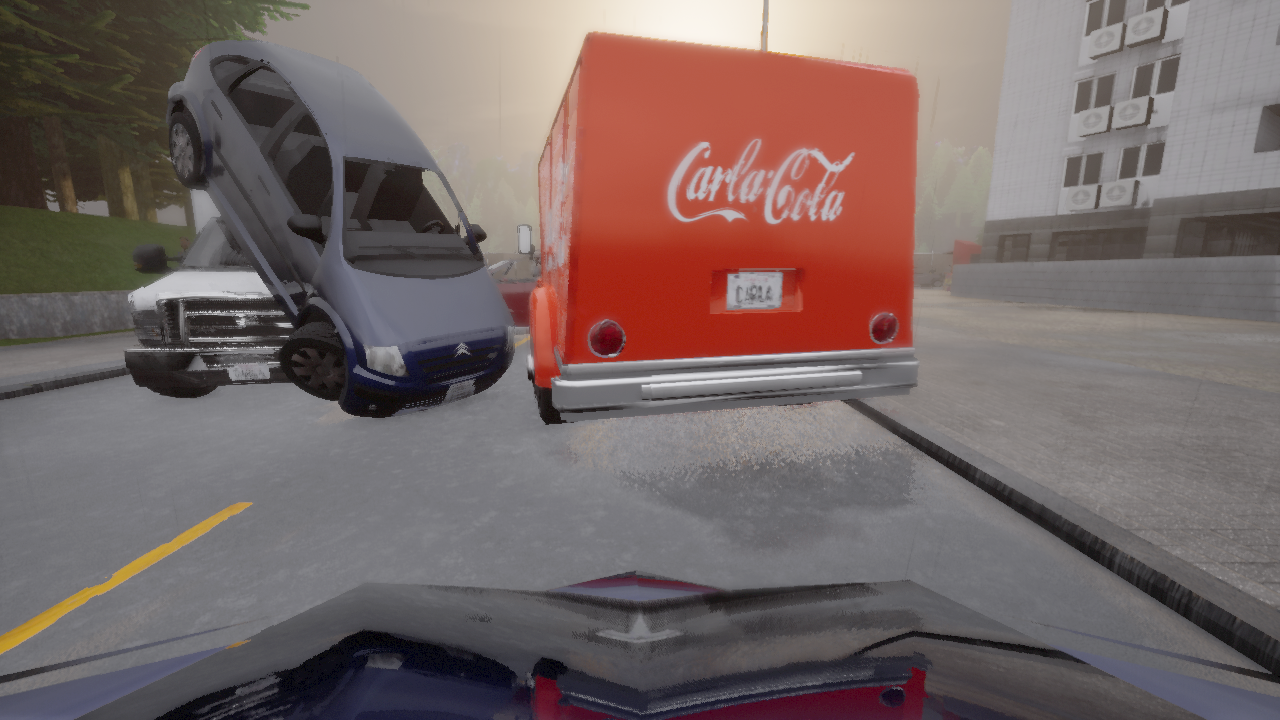cyclist: (0, 569, 1279, 719), (518, 32, 918, 422), (165, 41, 514, 415), (122, 189, 296, 396), (488, 254, 542, 333), (913, 265, 944, 287), (535, 248, 541, 253)
pedestrian: (177, 235, 191, 264), (943, 264, 951, 278), (928, 266, 934, 272)
